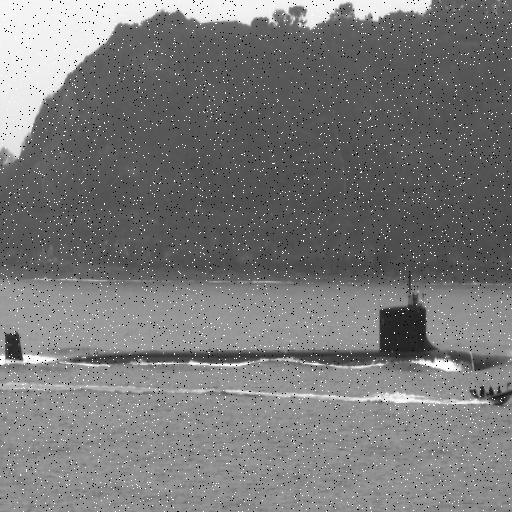submarine: (1, 302, 512, 373)
